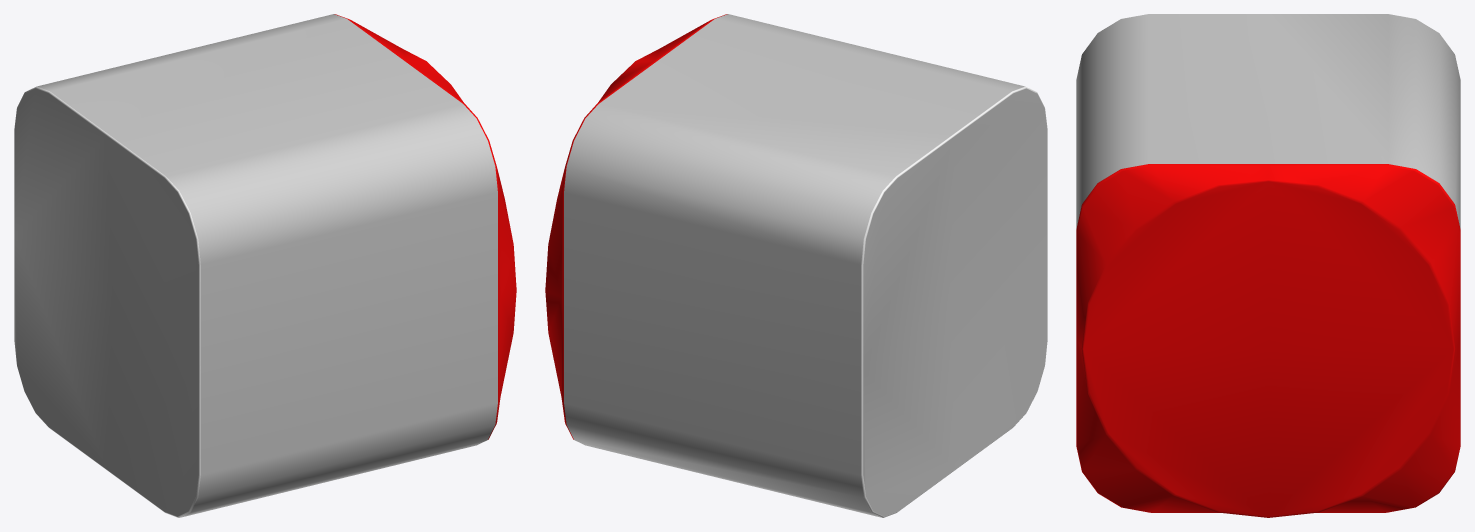
The picture shows the model from 3 angles, left to right: view 1: azimuth 30°, elevation 25°; view 2: azimuth 150°, elevation 25°; view 3: azimuth 270°, elevation 25°; orthographic projection. The views are drawn at different scales.
Parts seen in each view (by area): view 1: center_R; view 2: center_R; view 3: center_R.
Boxes of the visible parts, bbox=[...] form: center_R: bbox=[14, 14, 516, 517]; center_R: bbox=[545, 14, 1047, 517]; center_R: bbox=[1076, 14, 1460, 517].
Bounding box in the file's own units: 0.1996 × 0.2003 × 0.2003.
1 material, 1 textured.
